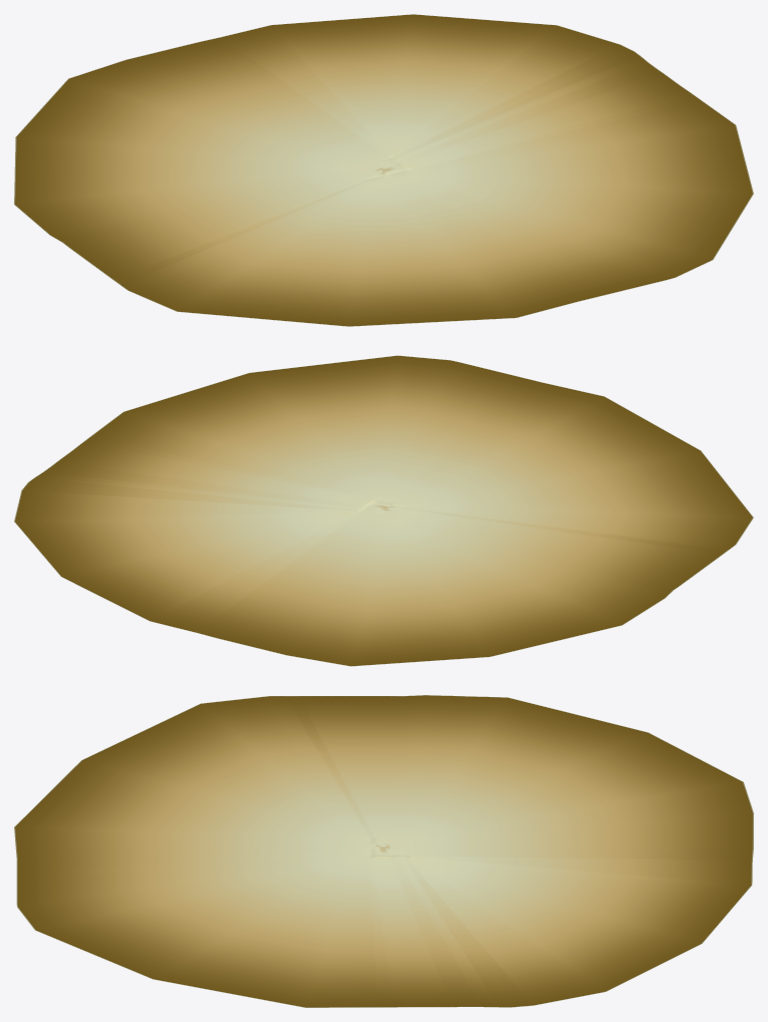
Rendered from sand1.fbx.
The picture shows the model from 3 angles, top to bottom: view 1: azimuth 30°, elevation 25°; view 2: azimuth 150°, elevation 25°; view 3: azimuth 270°, elevation 25°; orthographic projection. The views are drawn at different scales.
Parts seen in each view (by area): view 1: sand1; view 2: sand1; view 3: sand1.
Boxes of the visible parts, x1,y1,x2,y2 form: sand1: (14,14,753,326); sand1: (14,355,753,666); sand1: (14,695,753,1007).
Size of the model in its own units: 2.42 by 0.0147 by 2.41.
1 material, 1 textured.
